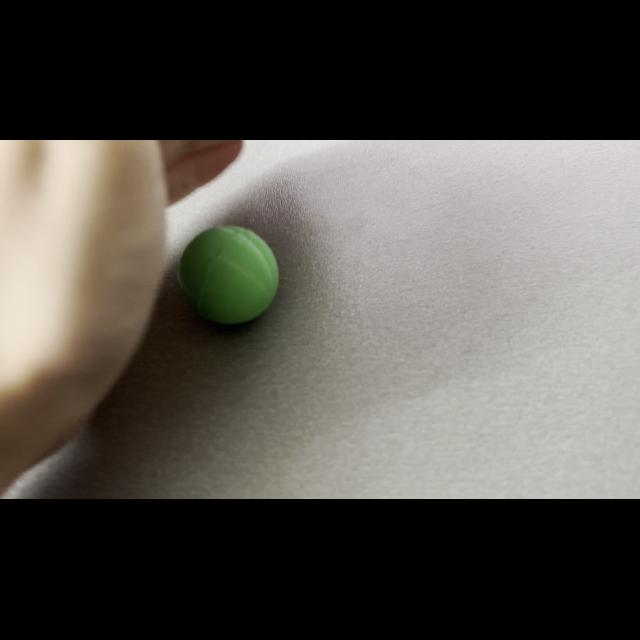objects: (175, 225, 288, 332)
